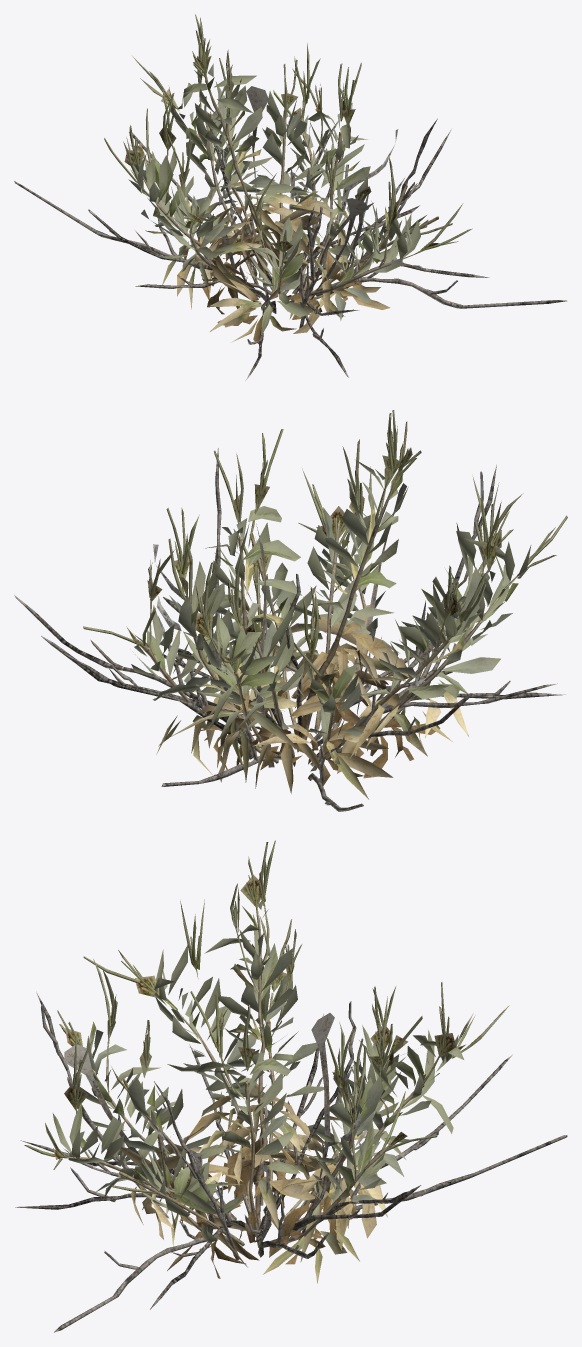
Rendered from SM_Foliage_05.fbx.
3 renders of one model, top to bottom at view 1: azimuth 30°, elevation 25°; view 2: azimuth 150°, elevation 25°; view 3: azimuth 270°, elevation 25°, orthographic. The views are drawn at different scales.
Parts seen in each view (by area): view 1: SM_Foliage_05_LOD0; view 2: SM_Foliage_05_LOD0; view 3: SM_Foliage_05_LOD0.
Part boxes in pixels (bbox=[...]): SM_Foliage_05_LOD0: bbox=[14, 14, 566, 380]; SM_Foliage_05_LOD0: bbox=[14, 410, 567, 811]; SM_Foliage_05_LOD0: bbox=[15, 840, 567, 1332].
Bounding box in the file's own units: 99.19 × 107 × 74.86.
1 material, 1 textured.
